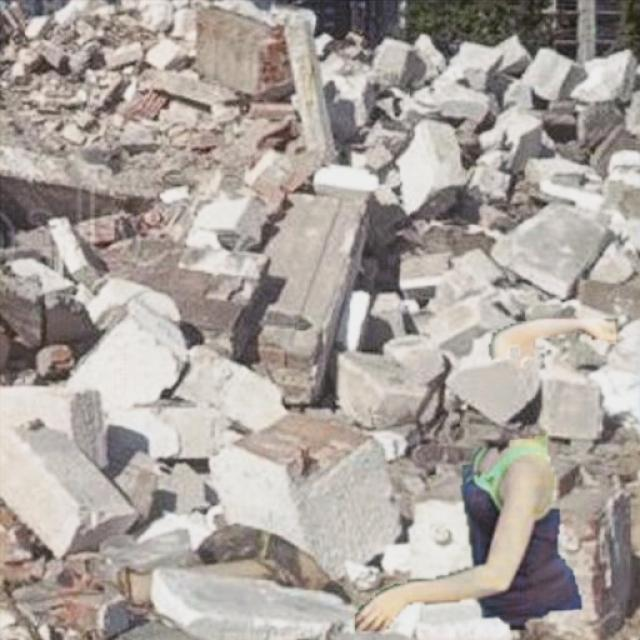Person in Rubble: (355, 319, 616, 630)
